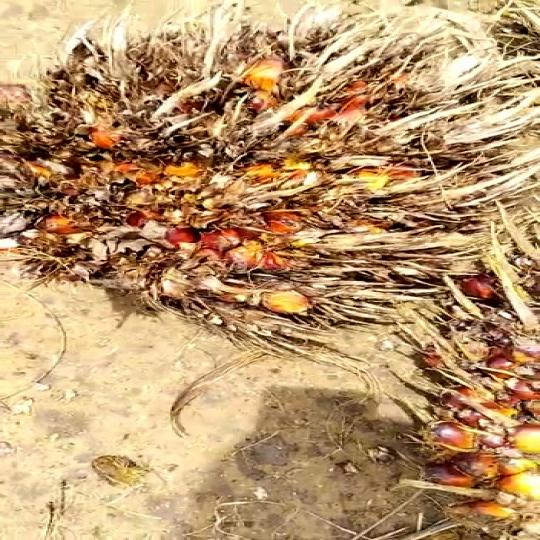terlalu masak: (0, 0, 538, 380)
